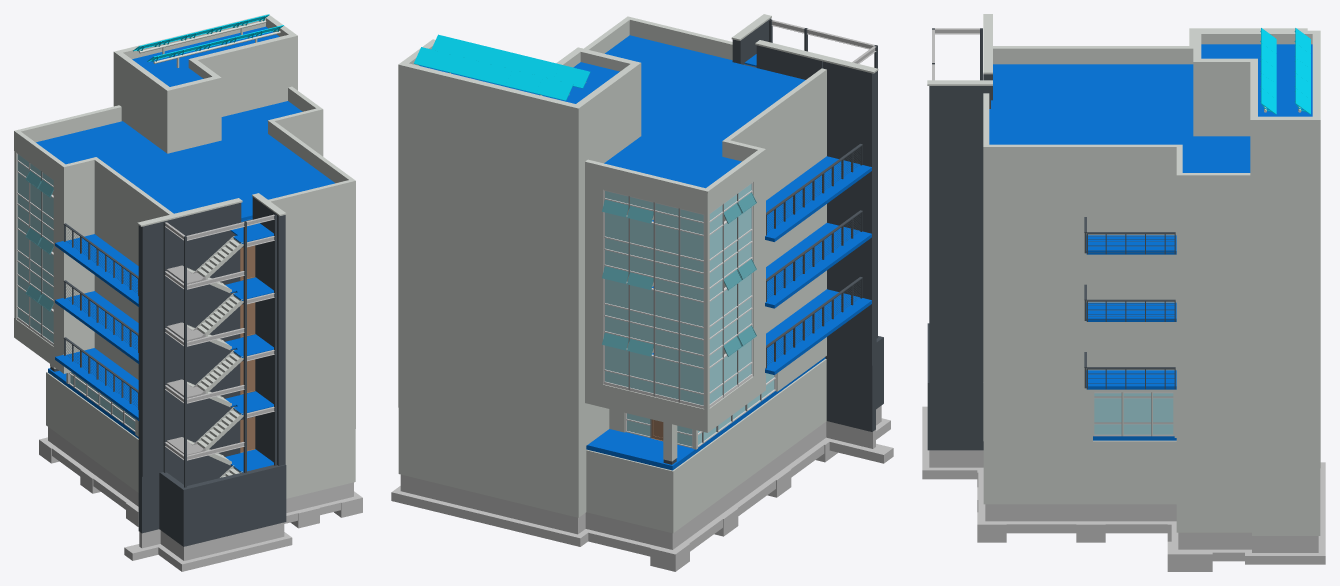
File: build.gltf
3 views of the same model, side by side, from view 1: azimuth 30°, elevation 25°; view 2: azimuth 150°, elevation 25°; view 3: azimuth 270°, elevation 25° (orthographic). The views are drawn at different scales.
Visible parts, largest first — view 1: IfcSlab-8065352876032, IfcWallStandardCase-8059703148545, IfcBuildingElementPart-8059665399809, IfcBuildingElementPart-8065478705153, IfcBuildingElementPart-8060936273922, IfcBuildingElementPart-8062228119553, IfcBuildingElementPart-8059862532097, IfcBuildingElementPart-8063582879745, IfcBuildingElementPart-8059644428288, IfcBuildingElementPart-8065449345026, IfcBuildingElementPart-8065445150720, IfcBuildingElementPart-8063570296833 (+68 smaller); view 2: IfcSlab-8065352876032, IfcBuildingElementPart-8064417546241, IfcBuildingElementPart-8063008260097, IfcBuildingElementPart-8061779329024, IfcBuildingElementPart-8060437151744, IfcBuildingElementPart-8065457733634, IfcBuildingElementPart-8059615068162, IfcBuildingElementPart-8059665399809, IfcBuildingElementPart-8059657011202, IfcBuildingElementPart-8063570296833, IfcBuildingElementPart-8065445150720, IfcSlab-8064379797504 (+42 smaller); view 3: IfcSlab-8065352876032, IfcBuildingElementPart-8059677982722, IfcBuildingElementPart-8059883503617, IfcBuildingElementPart-8062244896768, IfcBuildingElementPart-8063599656961, IfcBuildingElementPart-8060978216961, IfcBuildingElementPart-8063612239873, IfcBuildingElementPart-8063712903169, IfcBuildingElementPart-8062383308800, IfcBuildingElementPart-8059904475136, IfcBuildingElementPart-8061070491650, IfcBuildingElementPart-8059648622594 (+48 smaller).
Part boxes in pixels (bbox=[...]): IfcSlab-8065352876032: bbox=[36, 101, 334, 220]; IfcWallStandardCase-8059703148545: bbox=[183, 464, 284, 546]; IfcBuildingElementPart-8059665399809: bbox=[46, 372, 138, 492]; IfcBuildingElementPart-8065478705153: bbox=[207, 44, 297, 116]; IfcBuildingElementPart-8060936273922: bbox=[285, 315, 355, 388]; IfcBuildingElementPart-8062228119553: bbox=[285, 258, 355, 331]; IfcBuildingElementPart-8059862532097: bbox=[285, 372, 355, 445]; IfcBuildingElementPart-8063582879745: bbox=[285, 201, 355, 274]; IfcBuildingElementPart-8059644428288: bbox=[285, 429, 355, 498]; IfcBuildingElementPart-8065449345026: bbox=[167, 86, 221, 153]; IfcBuildingElementPart-8065445150720: bbox=[113, 61, 167, 153]; IfcBuildingElementPart-8063570296833: bbox=[94, 180, 148, 265]; IfcSlab-8065352876032: bbox=[604, 35, 805, 188]; IfcBuildingElementPart-8064417546241: bbox=[398, 141, 578, 251]; IfcBuildingElementPart-8063008260097: bbox=[398, 208, 578, 318]; IfcBuildingElementPart-8061779329024: bbox=[398, 274, 578, 384]; IfcBuildingElementPart-8060437151744: bbox=[398, 341, 578, 451]; IfcBuildingElementPart-8065457733634: bbox=[398, 75, 578, 185]; IfcBuildingElementPart-8059615068162: bbox=[398, 407, 578, 517]; IfcBuildingElementPart-8059665399809: bbox=[673, 359, 826, 532]; IfcBuildingElementPart-8059657011202: bbox=[586, 449, 673, 533]; IfcBuildingElementPart-8063570296833: bbox=[754, 93, 826, 200]; IfcBuildingElementPart-8065445150720: bbox=[578, 73, 641, 184]; IfcSlab-8064379797504: bbox=[765, 156, 871, 241]; IfcSlab-8065352876032: bbox=[989, 64, 1250, 172]; IfcBuildingElementPart-8059677982722: bbox=[983, 440, 1176, 504]; IfcBuildingElementPart-8059883503617: bbox=[983, 374, 1092, 441]; IfcBuildingElementPart-8062244896768: bbox=[983, 238, 1086, 306]; IfcBuildingElementPart-8063599656961: bbox=[983, 171, 1086, 238]; IfcBuildingElementPart-8060978216961: bbox=[983, 306, 1086, 373]; IfcBuildingElementPart-8063612239873: bbox=[1086, 171, 1176, 235]; IfcBuildingElementPart-8063712903169: bbox=[1176, 199, 1251, 266]; IfcBuildingElementPart-8062383308800: bbox=[1176, 267, 1251, 334]; IfcBuildingElementPart-8059904475136: bbox=[1176, 402, 1251, 469]; IfcBuildingElementPart-8061070491650: bbox=[1176, 334, 1251, 401]; IfcBuildingElementPart-8059648622594: bbox=[1176, 469, 1251, 532].
Bounding box in the file's own units: 19.8 × 26.54 × 20.55.
